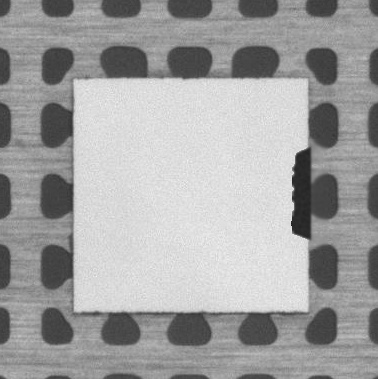DIE_BROKEN: (288, 143, 313, 245)
